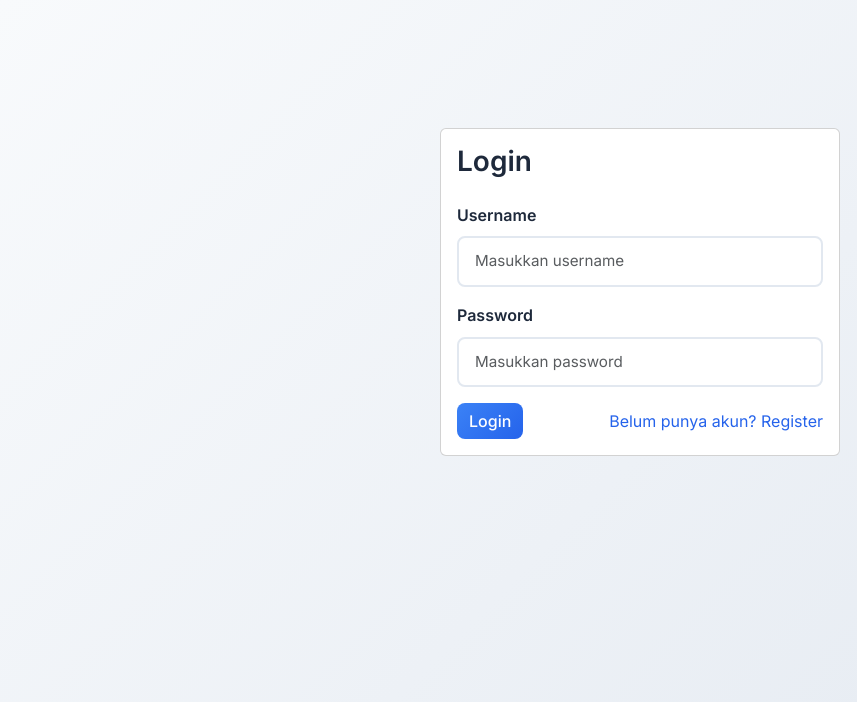
Login Component › shows error when both fields are empty
Click the button "Login". click: x=490, y=421
box: [457,403,523,439]
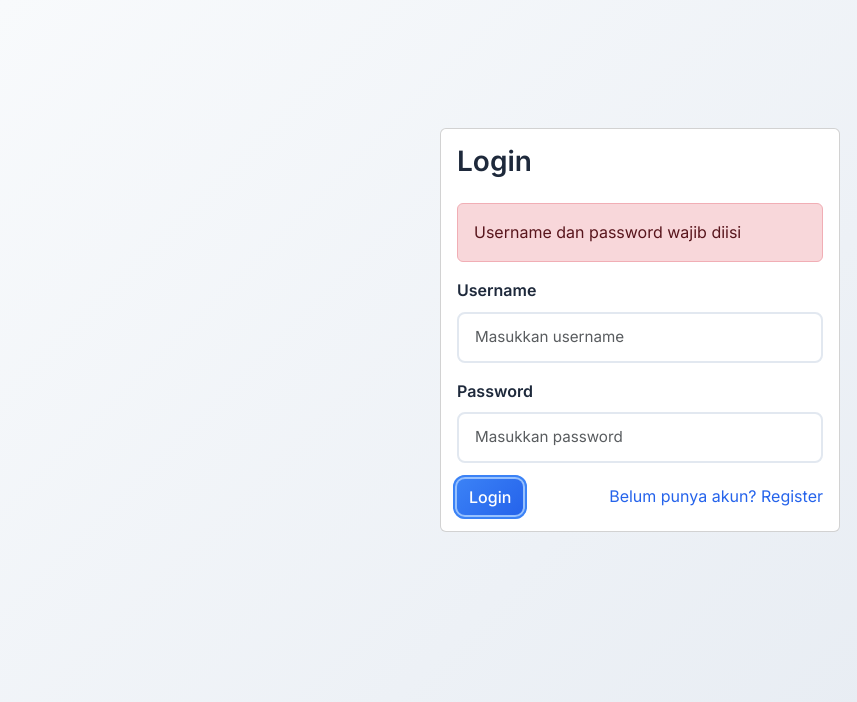
Now the text "Username dan password wajib diisi" is shown, box [457,203,823,262]
